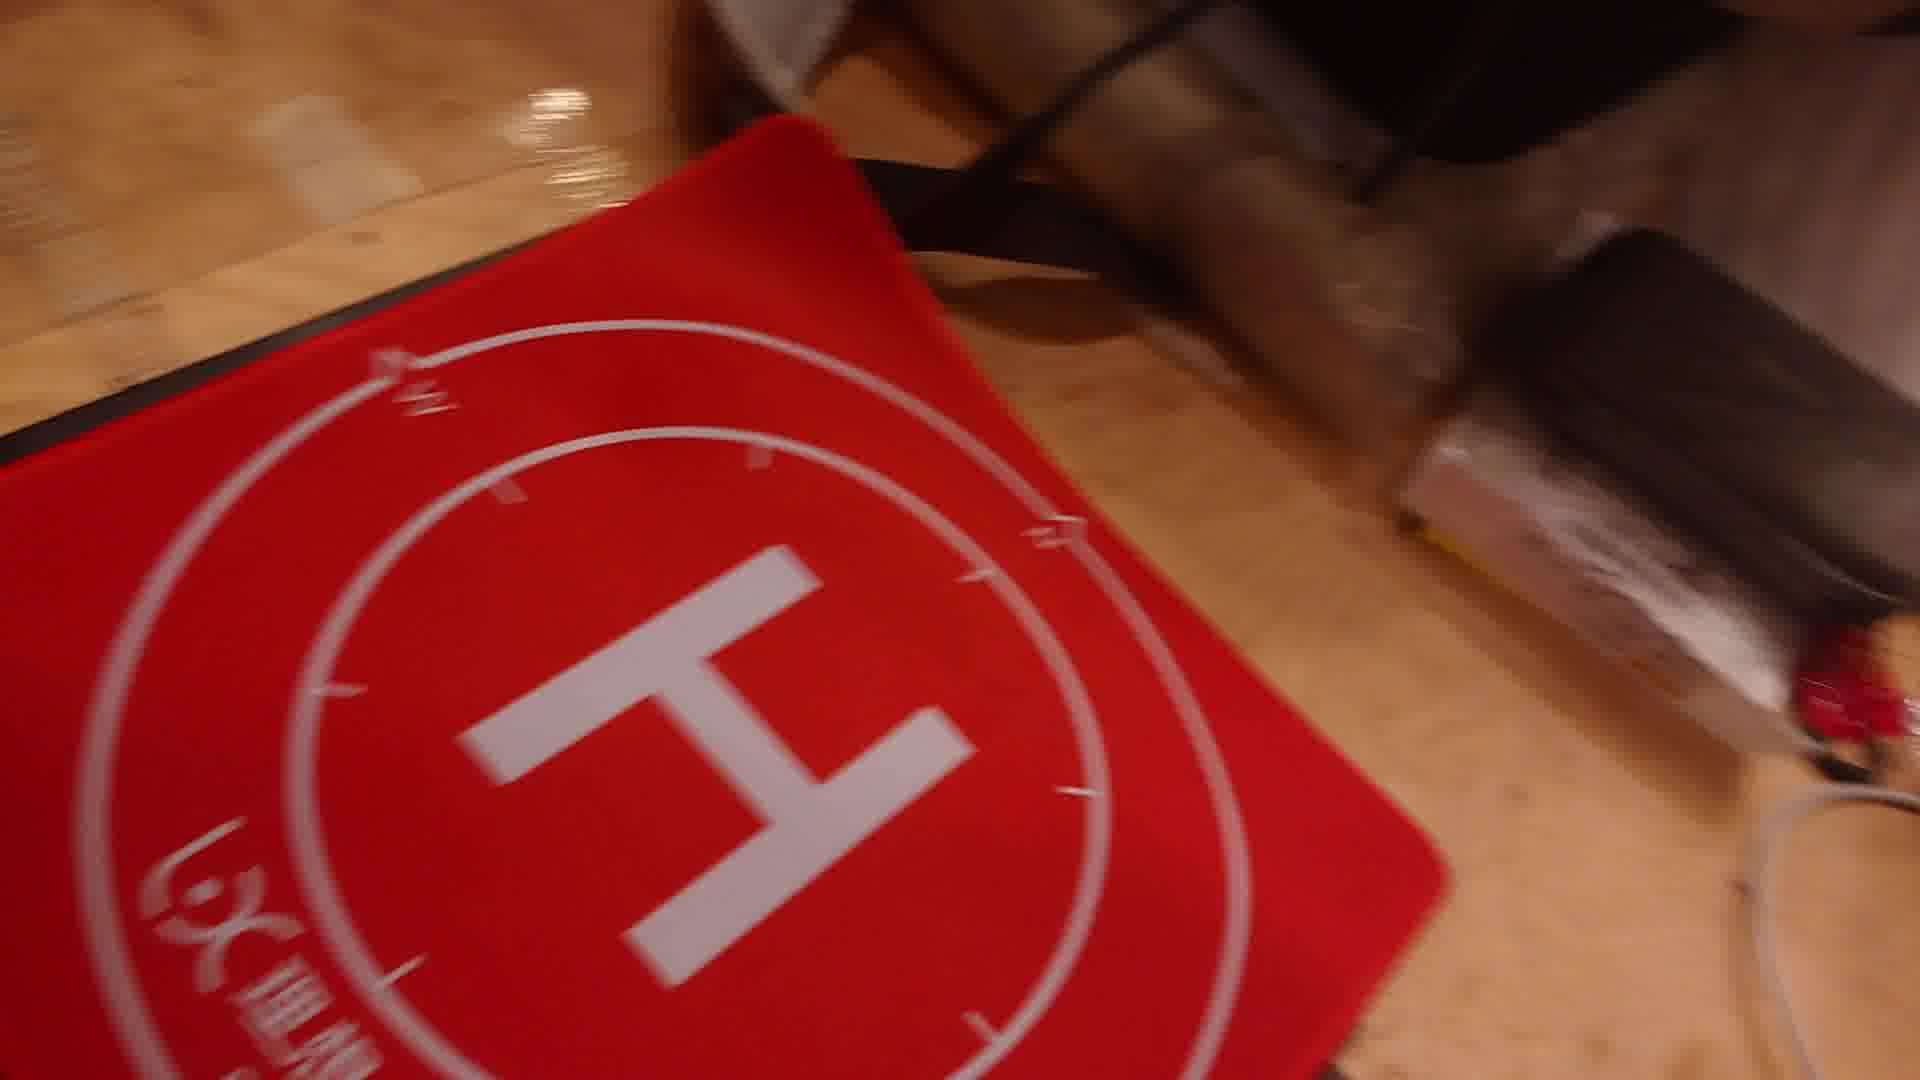H: (454, 545, 976, 992)
